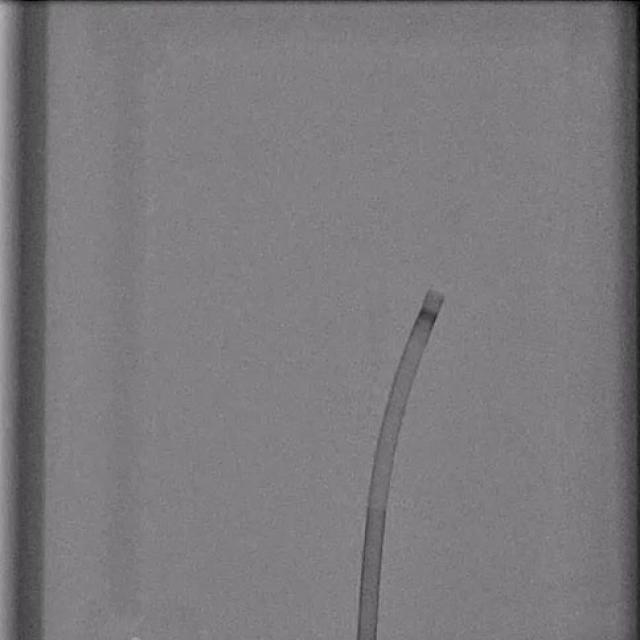bend: (367, 492, 389, 509)
entry: (358, 634, 375, 640)
marker: (418, 307, 439, 324)
tip: (428, 289, 446, 298)
